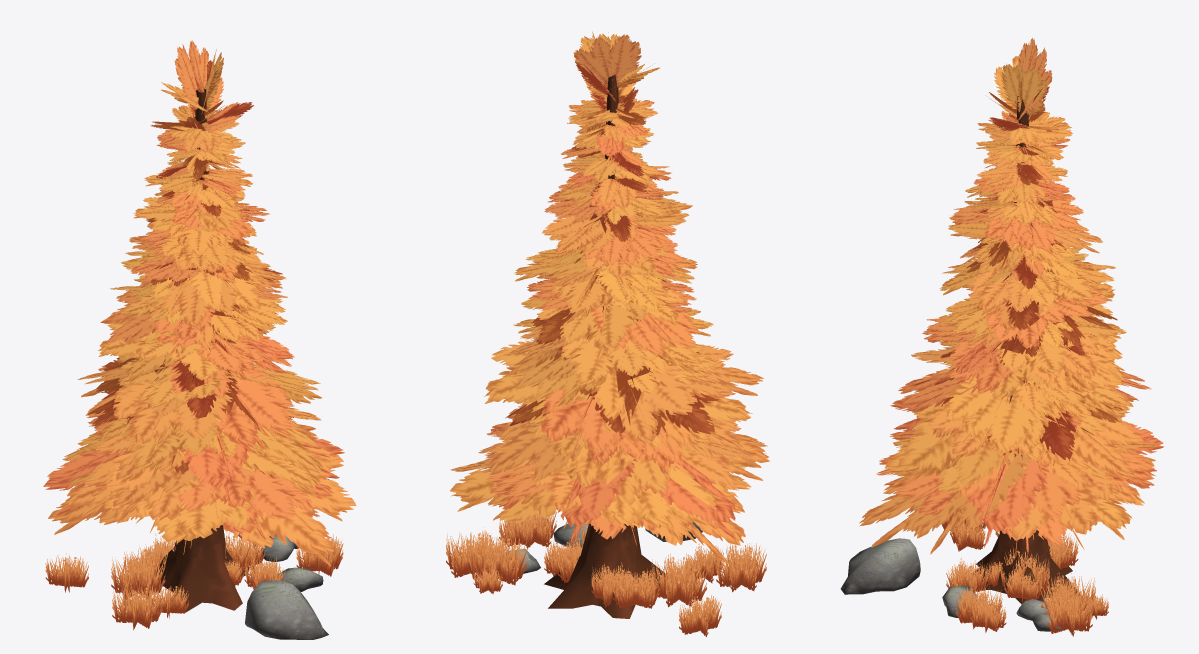
Rendered from pine_autumn.glb.
3 views of the same model, side by side, from view 1: azimuth 30°, elevation 25°; view 2: azimuth 150°, elevation 25°; view 3: azimuth 270°, elevation 25° (orthographic). The views are drawn at different scales.
Visible parts, largest first — view 1: A1_PineFoliage_LP, A1_PineTrunk_LP, A1_Pebble0, A1_GrassTuft1, A1_GrassTuft14, A1_GrassTuft12, A1_GrassTuft11, A1_GrassTuft3, A1_GrassTuft2, A1_Pebble2, A1_GrassTuft8, A1_Pebble1; view 2: A1_PineFoliage_LP, A1_PineTrunk_LP, A1_GrassTuft6, A1_GrassTuft1, A1_GrassTuft14, A1_GrassTuft13, A1_GrassTuft12, A1_GrassTuft4, A1_GrassTuft11, A1_GrassTuft15, A1_GrassTuft2, A1_GrassTuft8 (+3 smaller); view 3: A1_PineFoliage_LP, A1_Pebble0, A1_PineTrunk_LP, A1_GrassTuft4, A1_GrassTuft6, A1_GrassTuft11, A1_GrassTuft3, A1_GrassTuft7, A1_GrassTuft8, A1_GrassTuft9, A1_GrassTuft2, A1_Pebble2.
Boxes of the visible parts, box(x1,y1,x2,y2) form: A1_PineFoliage_LP: box(43, 40, 356, 566); A1_PineTrunk_LP: box(156, 89, 249, 612); A1_Pebble0: box(245, 580, 328, 639); A1_GrassTuft1: box(111, 551, 165, 599); A1_GrassTuft14: box(112, 583, 162, 629); A1_GrassTuft12: box(45, 553, 88, 592); A1_GrassTuft11: box(296, 534, 342, 576); A1_GrassTuft3: box(244, 556, 285, 589); A1_GrassTuft2: box(149, 585, 188, 618); A1_Pebble2: box(278, 567, 323, 591); A1_GrassTuft8: box(224, 531, 250, 570); A1_Pebble1: box(261, 535, 294, 561); A1_PineFoliage_LP: box(450, 31, 769, 565); A1_PineTrunk_LP: box(544, 75, 666, 618); A1_GrassTuft6: box(468, 530, 527, 585); A1_GrassTuft1: box(651, 553, 706, 607); A1_GrassTuft14: box(716, 543, 766, 592); A1_GrassTuft13: box(612, 568, 659, 608); A1_GrassTuft12: box(679, 593, 721, 636); A1_GrassTuft4: box(446, 527, 495, 579); A1_GrassTuft11: box(512, 511, 556, 548); A1_GrassTuft15: box(591, 562, 633, 607); A1_GrassTuft2: box(685, 543, 723, 583); A1_GrassTuft8: box(557, 537, 583, 582); A1_PineFoliage_LP: box(859, 38, 1164, 554); A1_Pebble0: box(840, 538, 920, 594); A1_PineTrunk_LP: box(967, 96, 1092, 604); A1_GrassTuft4: box(1044, 587, 1092, 636); A1_GrassTuft6: box(1041, 572, 1095, 615); A1_GrassTuft11: box(955, 586, 1002, 629); A1_GrassTuft3: box(946, 557, 988, 593); A1_GrassTuft7: box(1004, 570, 1042, 603); A1_GrassTuft8: box(1004, 548, 1049, 592); A1_GrassTuft9: box(970, 599, 1006, 632); A1_GrassTuft2: box(950, 517, 985, 551); A1_Pebble2: box(942, 586, 976, 617).
Size of the model in its own units: 4.46 by 7.78 by 4.52.
4 materials, 4 textured.
